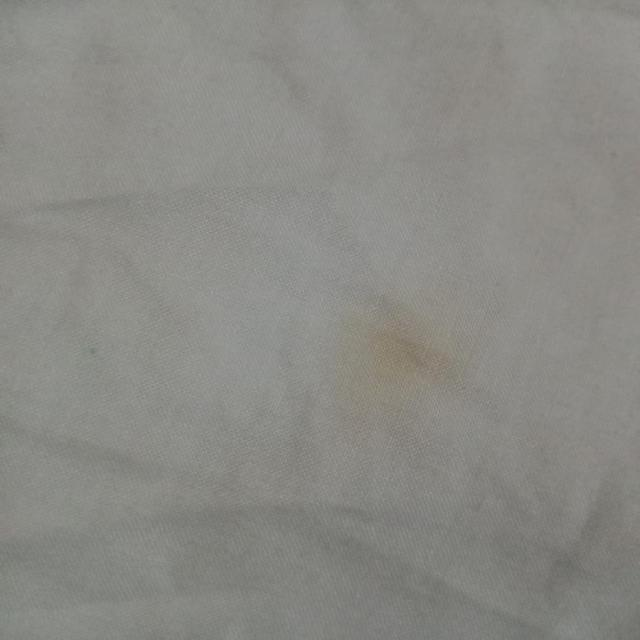stain: (311, 291, 468, 427)
